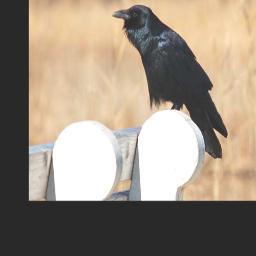Crow: (112, 4, 229, 161)
